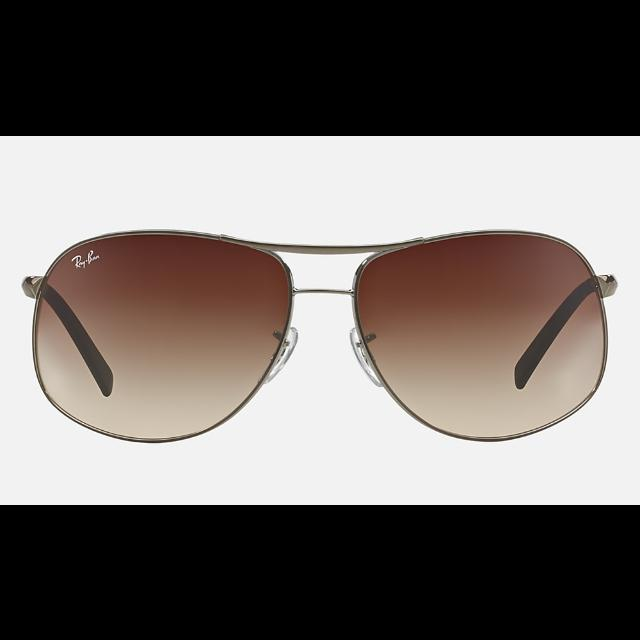Sunglasses: (25, 228, 615, 442)
